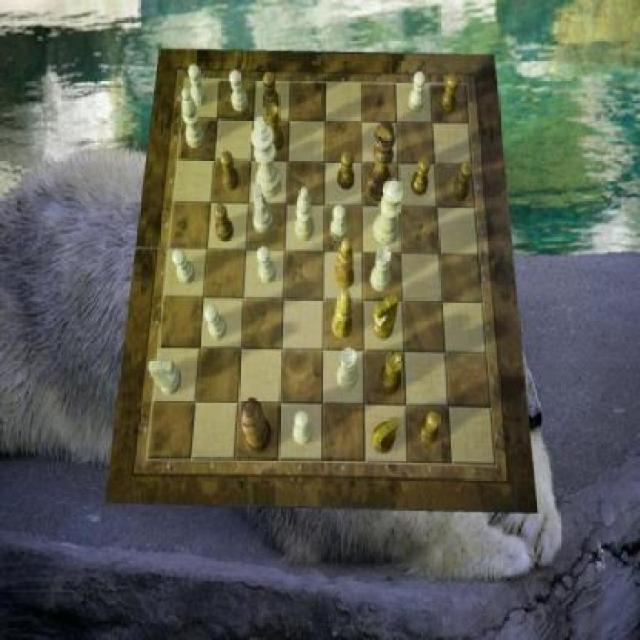bishop: (334, 238, 354, 290), (332, 290, 352, 338)
black-bishop: (368, 120, 395, 200)
black-king: (372, 294, 400, 340), (371, 417, 398, 455)
black-knight: (451, 163, 473, 203), (440, 74, 460, 115), (418, 410, 442, 444), (220, 151, 240, 191), (214, 205, 234, 242), (411, 157, 430, 195), (338, 151, 356, 189), (263, 72, 280, 112)
black-pawn: (238, 398, 272, 454)
black-queen: (380, 352, 403, 395), (264, 103, 284, 152)
black-rook: (182, 88, 206, 149), (296, 188, 316, 242)
white-bishop: (252, 117, 282, 198)
white-king: (149, 360, 182, 396), (253, 184, 274, 233)
white-knight: (205, 304, 228, 340), (174, 249, 197, 284), (230, 69, 248, 112), (257, 246, 277, 284), (189, 65, 207, 107), (294, 411, 314, 445), (409, 72, 426, 112), (330, 204, 348, 240)
white-pawn: (374, 180, 404, 246)
white-queen: (371, 246, 392, 292), (337, 348, 359, 390)
